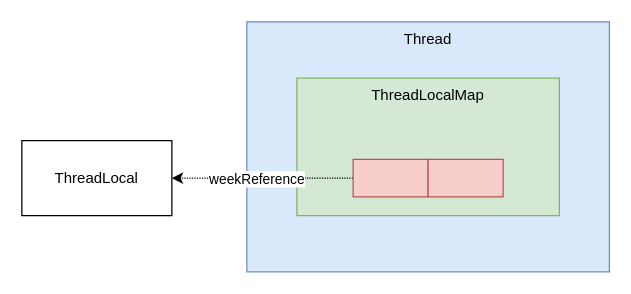
This 631x294 diagram has some shape labels left out. The shapes that lost their labels are listed below. From the top down, each one's centre as x and y in pixels, then its label:
[390,177]: key
[465,177]: value
